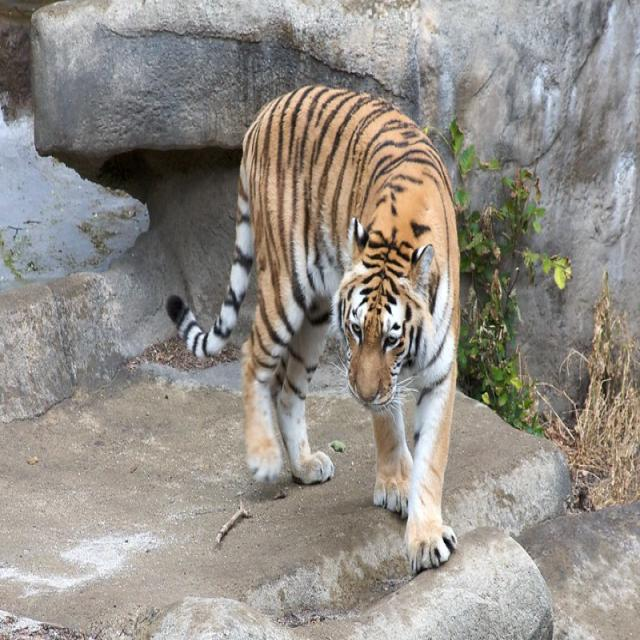Tiger: (165, 74, 478, 576)
